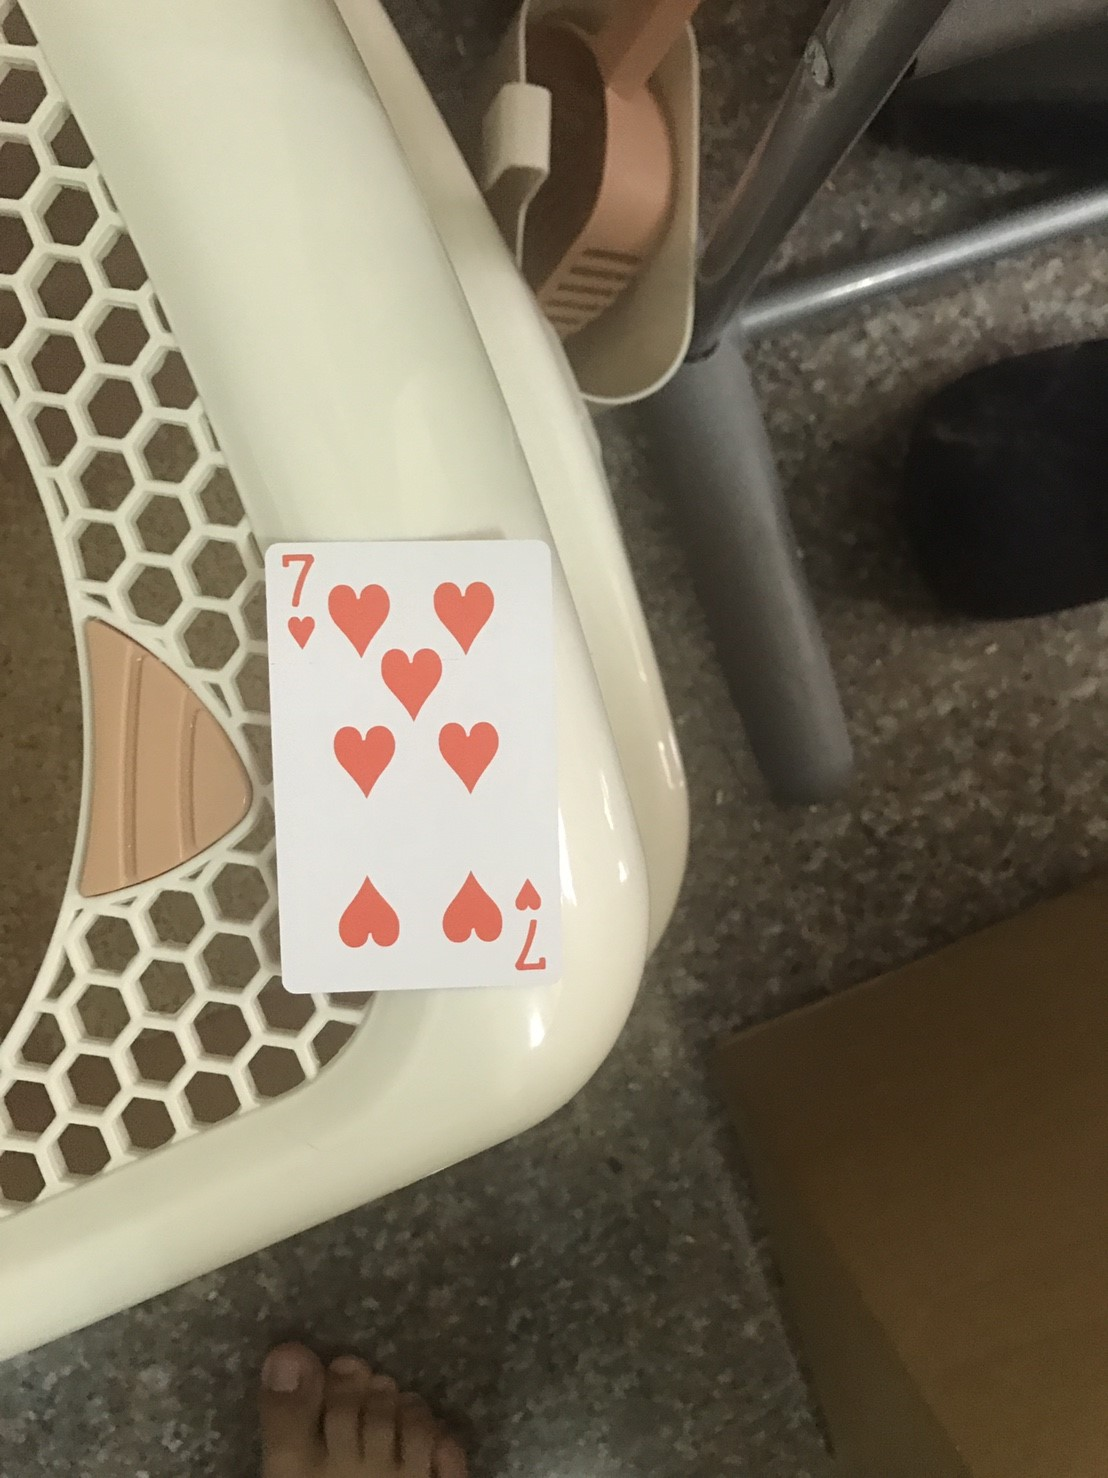hearts: (322, 723, 406, 802), (429, 715, 510, 793), (327, 873, 409, 950), (436, 868, 511, 948), (429, 578, 510, 652), (377, 651, 455, 723), (327, 580, 391, 665), (282, 606, 315, 649), (514, 877, 541, 914)
